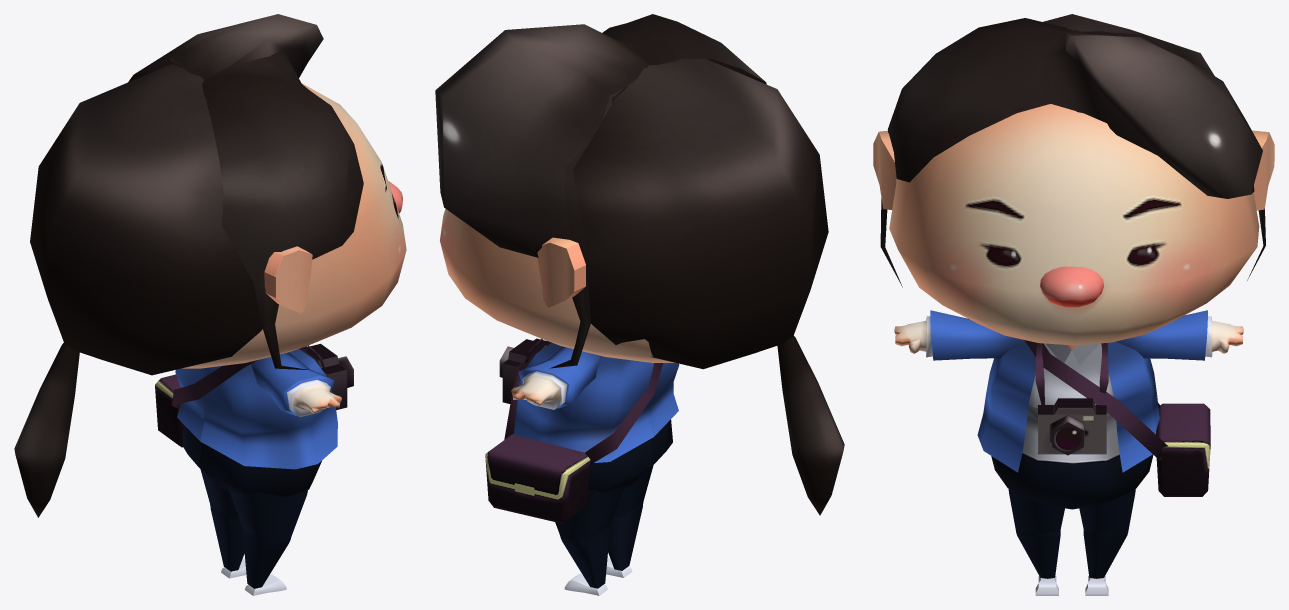
File: Char_Cre_AR_02.fbx
3 renders of one model, left to right at view 1: azimuth 30°, elevation 25°; view 2: azimuth 150°, elevation 25°; view 3: azimuth 270°, elevation 25°, orthographic. The views are drawn at different scales.
Parts seen in each view (by area): view 1: Hair_Back_Photographer, Hair_Photographer, Head_Photographer, Vest_Photographer, Ponytail_Photographer, R_Leg_Photographer, Body_Photographer, R_Arm_Photographer, Camera_Bag_Photographer, R_Ear_Photographer, L_Leg_Photographer, Camera_Photographer; view 2: Hair_Back_Photographer, Hair_Photographer, Head_Photographer, Vest_Photographer, Camera_Bag_Photographer, Ponytail_Photographer, L_Leg_Photographer, L_Arm_Photographer, L_Ear_Photographer, Body_Photographer, R_Leg_Photographer, Camera_Photographer; view 3: Head_Photographer, Hair_Photographer, Body_Photographer, Vest_Photographer, Camera_Bag_Photographer, Camera_Photographer, R_Arm_Photographer, L_Arm_Photographer, R_Leg_Photographer, L_Leg_Photographer, Nose_Photographer, Hair_Back_Photographer (+3 smaller).
Part boxes in pixels (x1=…): Hair_Back_Photographer: x1=30, y1=64, x2=262, y2=375; Hair_Photographer: x1=128, y1=14, x2=363, y2=369; Head_Photographer: x1=182, y1=83, x2=406, y2=368; Vest_Photographer: x1=175, y1=349, x2=337, y2=469; Ponytail_Photographer: x1=14, y1=343, x2=79, y2=517; R_Leg_Photographer: x1=229, y1=490, x2=307, y2=595; Body_Photographer: x1=182, y1=424, x2=321, y2=496; R_Arm_Photographer: x1=251, y1=352, x2=341, y2=416; Camera_Bag_Photographer: x1=155, y1=346, x2=309, y2=447; R_Ear_Photographer: x1=264, y1=246, x2=312, y2=313; L_Leg_Photographer: x1=200, y1=469, x2=246, y2=578; Camera_Photographer: x1=304, y1=343, x2=353, y2=409; Hair_Back_Photographer: x1=573, y1=58, x2=828, y2=369; Hair_Photographer: x1=435, y1=14, x2=766, y2=368; Head_Photographer: x1=440, y1=209, x2=675, y2=362; Vest_Photographer: x1=514, y1=343, x2=679, y2=462; Camera_Bag_Photographer: x1=485, y1=340, x2=663, y2=523; Ponytail_Photographer: x1=777, y1=335, x2=844, y2=515; L_Leg_Photographer: x1=555, y1=482, x2=623, y2=595; L_Arm_Photographer: x1=511, y1=346, x2=599, y2=409; L_Ear_Photographer: x1=537, y1=237, x2=585, y2=307; Body_Photographer: x1=588, y1=419, x2=672, y2=493; R_Leg_Photographer: x1=606, y1=465, x2=653, y2=577; Camera_Photographer: x1=499, y1=338, x2=550, y2=403; Head_Photographer: x1=889, y1=104, x2=1259, y2=345; Hair_Photographer: x1=880, y1=18, x2=1265, y2=287; Body_Photographer: x1=991, y1=343, x2=1153, y2=509; Vest_Photographer: x1=977, y1=341, x2=1159, y2=472; Camera_Bag_Photographer: x1=1024, y1=340, x2=1210, y2=496; Camera_Photographer: x1=1035, y1=343, x2=1108, y2=455; R_Arm_Photographer: x1=894, y1=310, x2=1025, y2=360; L_Arm_Photographer: x1=1116, y1=310, x2=1243, y2=360; R_Leg_Photographer: x1=1008, y1=489, x2=1064, y2=595; L_Leg_Photographer: x1=1079, y1=489, x2=1135, y2=595; Nose_Photographer: x1=1040, y1=266, x2=1103, y2=307; Hair_Back_Photographer: x1=1043, y1=14, x2=1214, y2=75.
Bounding box in the file's own units: 5.15 × 6.92 × 4.51.
